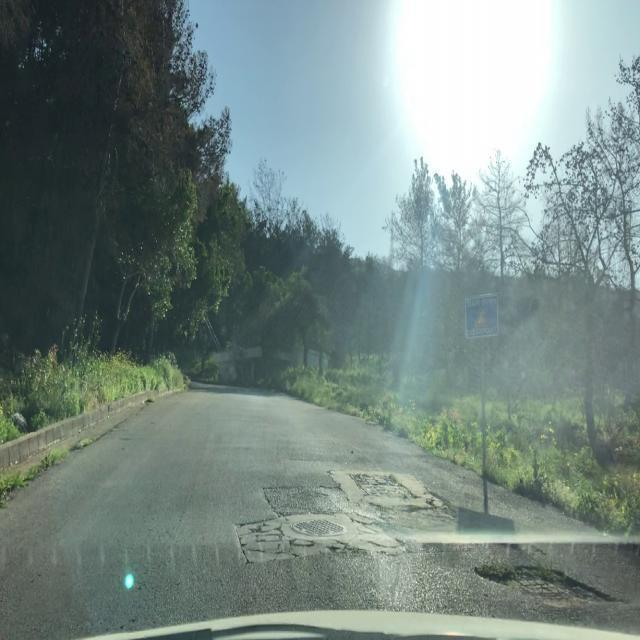pothole: (470, 560, 620, 610)
